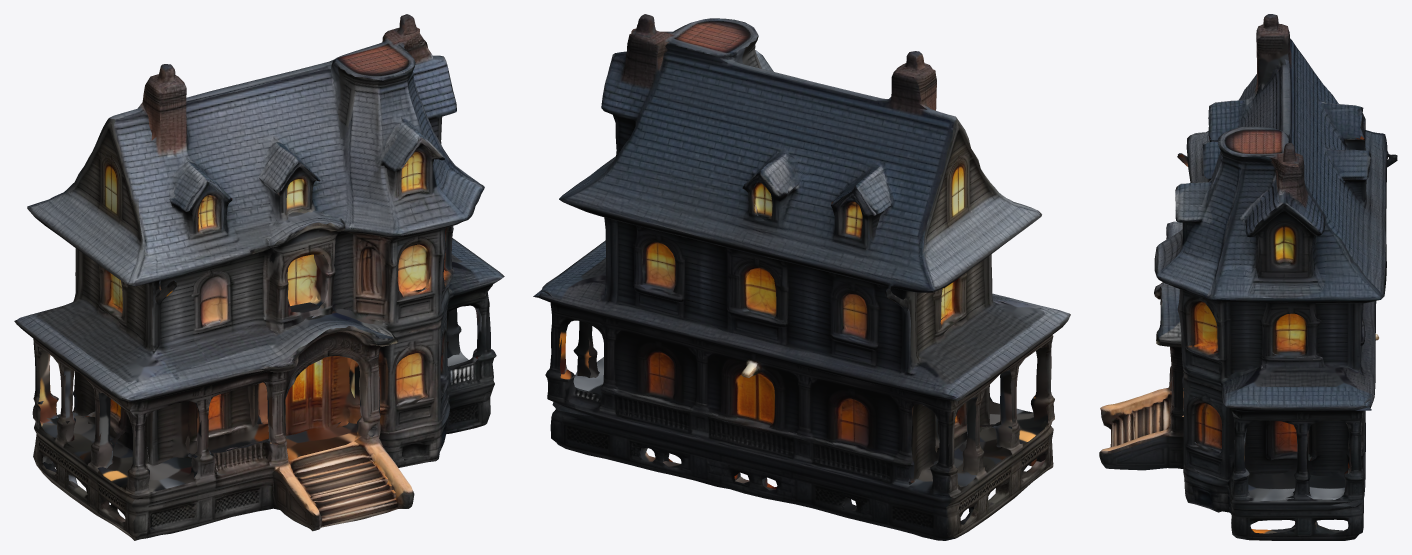
File: X_ghosthouse.glb
3 views of the same model, side by side, from view 1: azimuth 30°, elevation 25°; view 2: azimuth 150°, elevation 25°; view 3: azimuth 270°, elevation 25° (orthographic). The views are drawn at different scales.
Visible parts, largest first — view 1: VictorianHouse; view 2: VictorianHouse; view 3: VictorianHouse.
Part boxes in pixels (bbox=[...]): VictorianHouse: bbox=[14, 14, 504, 540]; VictorianHouse: bbox=[533, 14, 1070, 540]; VictorianHouse: bbox=[1099, 14, 1397, 540].
Bounding box in the file's own units: 25.83 × 25 × 17.37.
Materials: 1 (1 with a texture image).
